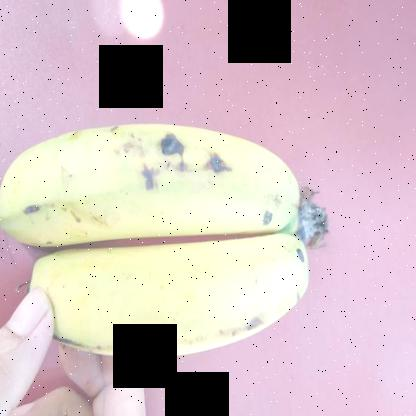ripe: (0, 117, 304, 257), (25, 237, 313, 366)
